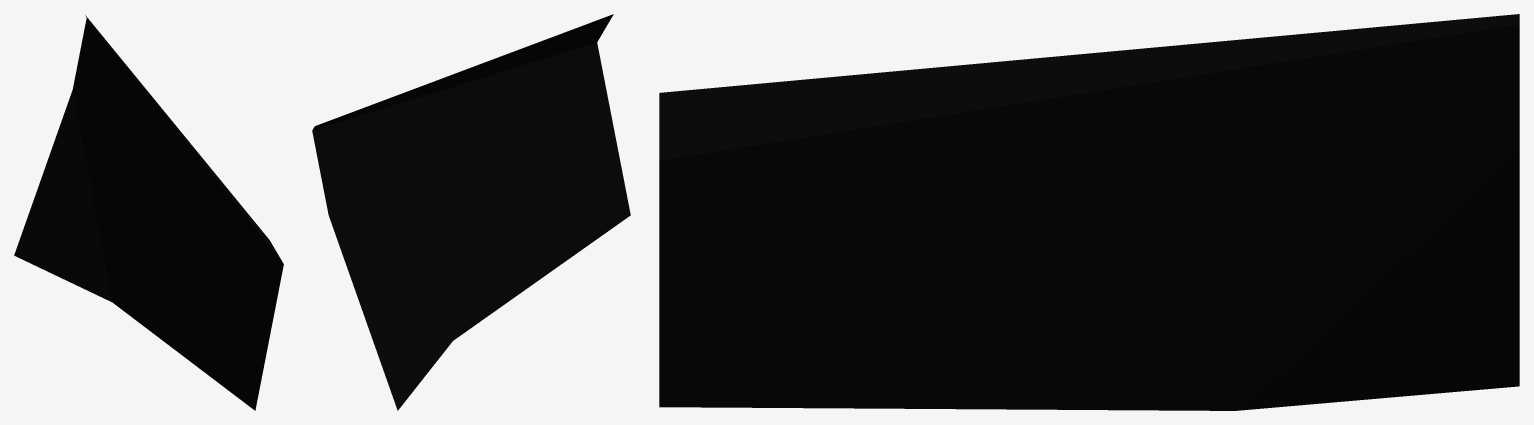
3 renders of one model, left to right at view 1: azimuth 30°, elevation 25°; view 2: azimuth 150°, elevation 25°; view 3: azimuth 270°, elevation 25°, orthographic. The views are drawn at different scales.
Bounding box in the file's own units: 1.13 × 3.33 × 5.9.
Materials: 2 (2 with a texture image).
